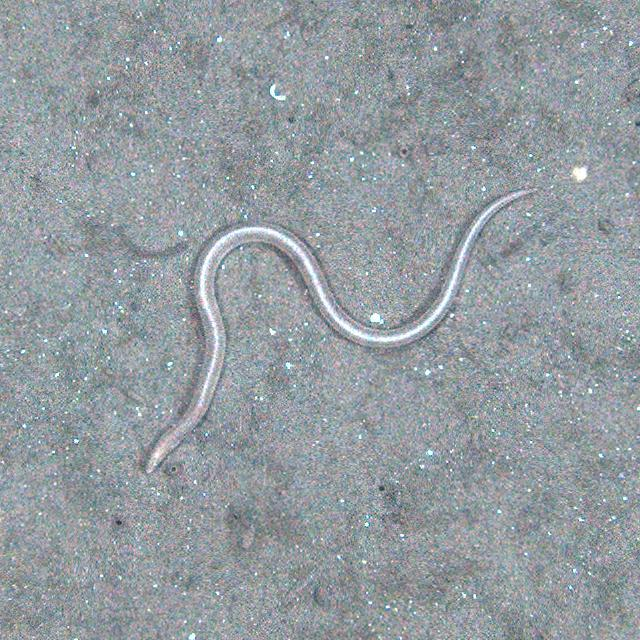eel: (138, 193, 538, 475)
